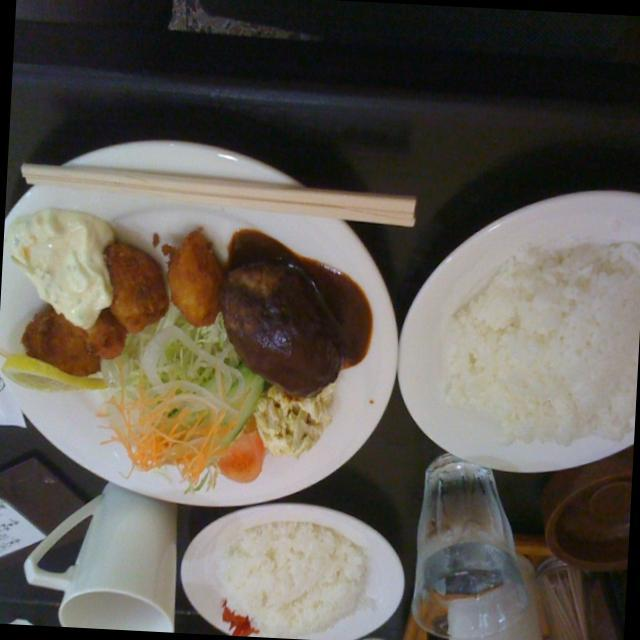Rice: (430, 218, 640, 451), (176, 496, 414, 640)
